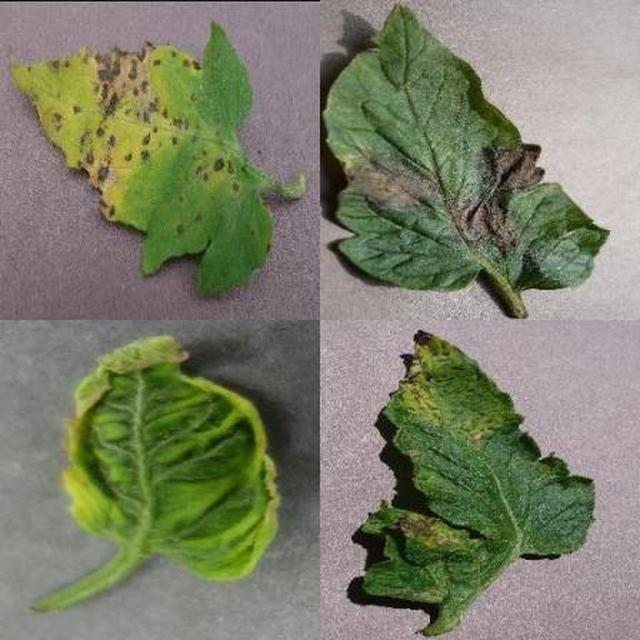Septoria Leaf: (202, 211, 640, 640)
